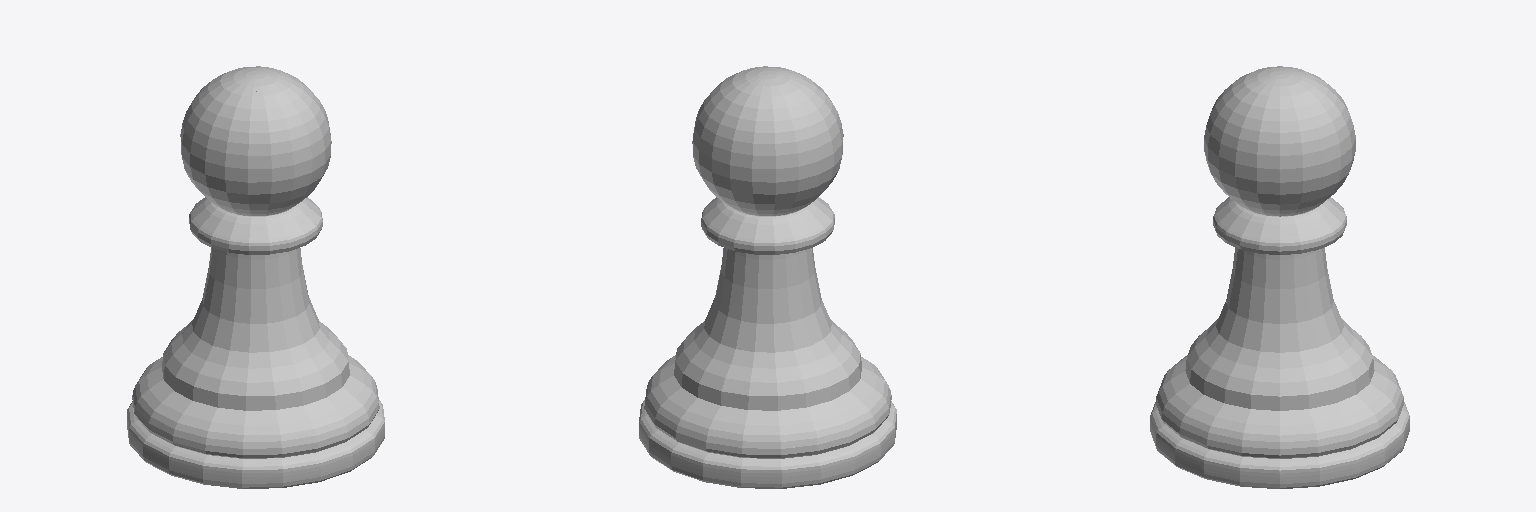
Rendered from chess_pion.obj.
3 renders of one model, left to right at view 1: azimuth 30°, elevation 25°; view 2: azimuth 150°, elevation 25°; view 3: azimuth 270°, elevation 25°, orthographic.
Visible parts, largest first — view 1: chess.001; view 2: chess.001; view 3: chess.001.
Boxes of the visible parts, box(x1,y1,x2,y2) form: chess.001: box(127, 66, 384, 488); chess.001: box(639, 66, 896, 488); chess.001: box(1150, 66, 1409, 488).
Size of the model in its own units: 136 by 210 by 136.